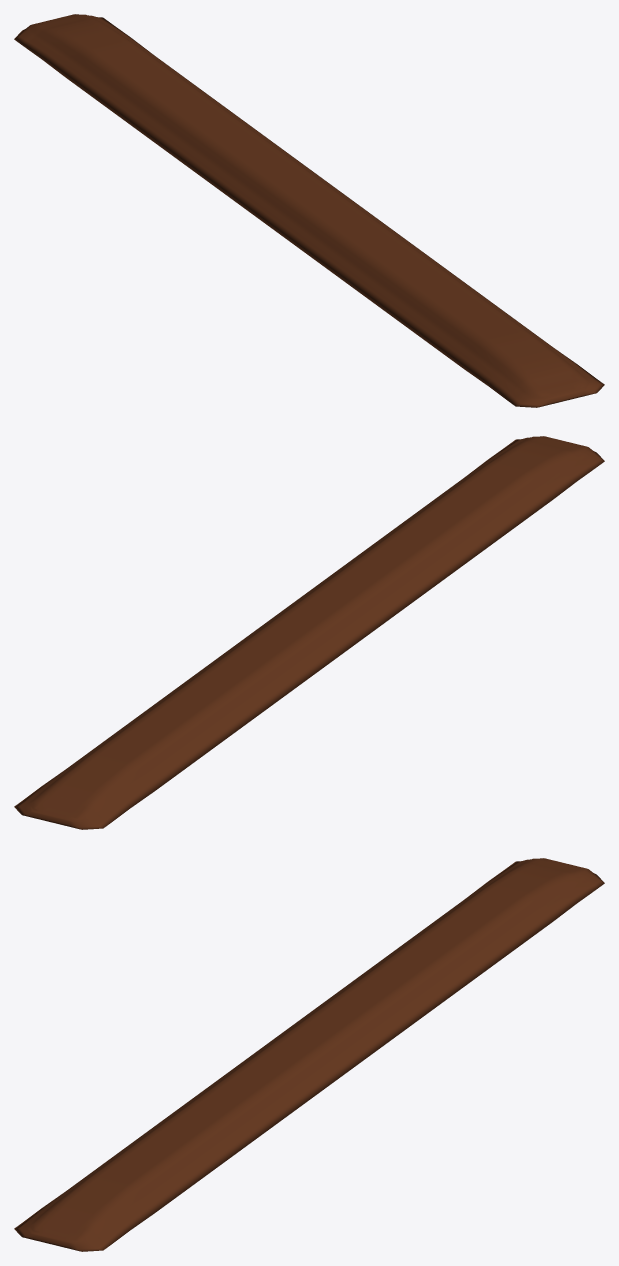
File: LongGround.fbx
3 renders of one model, top to bottom at view 1: azimuth 30°, elevation 25°; view 2: azimuth 150°, elevation 25°; view 3: azimuth 330°, elevation 25°, orthographic.
Visible parts, largest first — view 1: Cube; view 2: Cube; view 3: Cube.
Part boxes in pixels (left/top/right/bottom): Cube: left=14, top=14, right=604, bottom=407; Cube: left=14, top=436, right=604, bottom=829; Cube: left=14, top=858, right=604, bottom=1251.
Size of the model in its own units: 302 by 61.77 by 3014.
